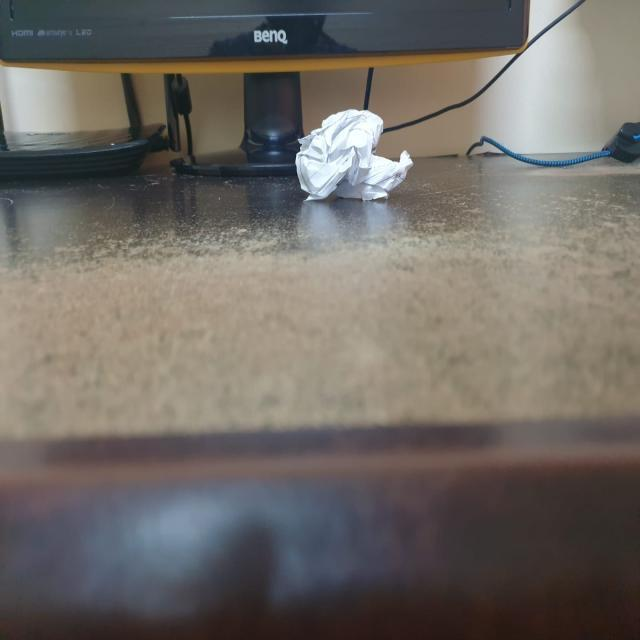Paper: (299, 109, 411, 204)
